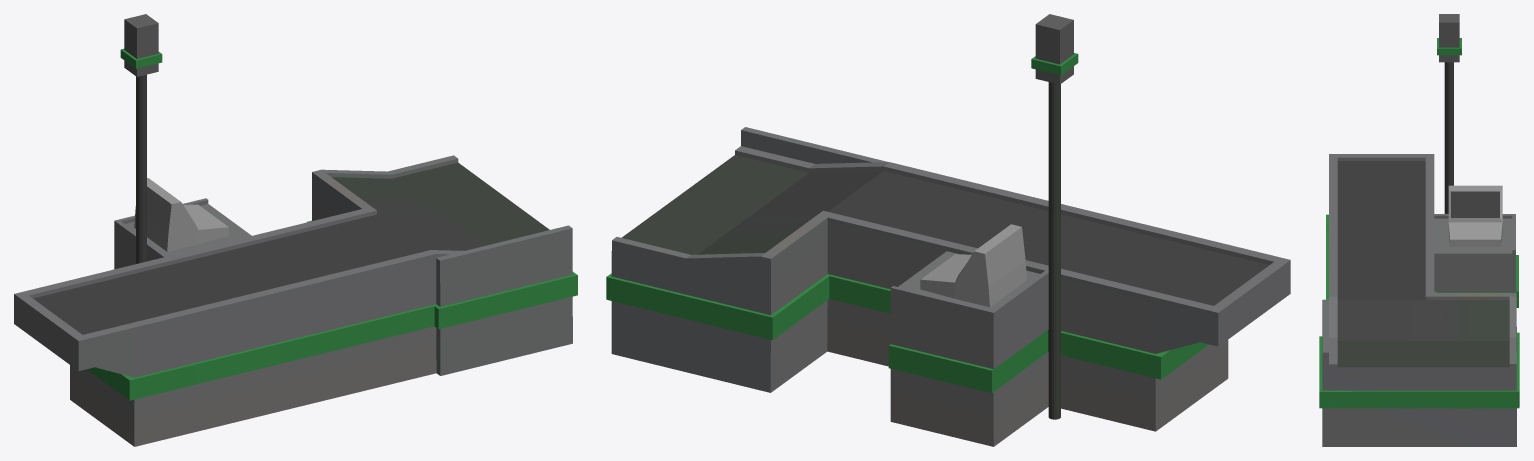
Rendered from Checkout.fbx.
The picture shows the model from 3 angles, left to right: view 1: azimuth 30°, elevation 25°; view 2: azimuth 150°, elevation 25°; view 3: azimuth 270°, elevation 25°; orthographic projection. The views are drawn at different scales.
Visible parts, largest first — view 1: Checkout, CheckoutLight; view 2: Checkout, CheckoutLight; view 3: Checkout, CheckoutLight.
Boxes of the visible parts, box(x1,y1,x2,y2) form: Checkout: box(14, 14, 572, 446); CheckoutLight: box(87, 48, 577, 400); Checkout: box(611, 14, 1290, 446); CheckoutLight: box(606, 53, 1208, 393); Checkout: box(1322, 14, 1516, 446); CheckoutLight: box(1319, 38, 1519, 408).
Bounding box in the file's own units: 740 × 504 × 318.
